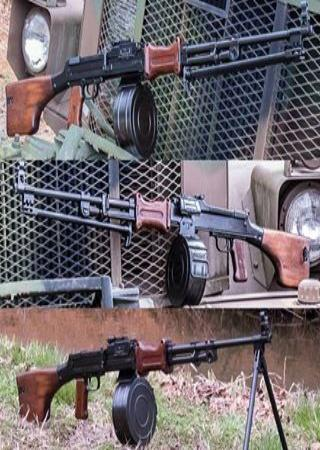weapon: (5, 2, 313, 138), (15, 161, 310, 287), (17, 311, 275, 447)
